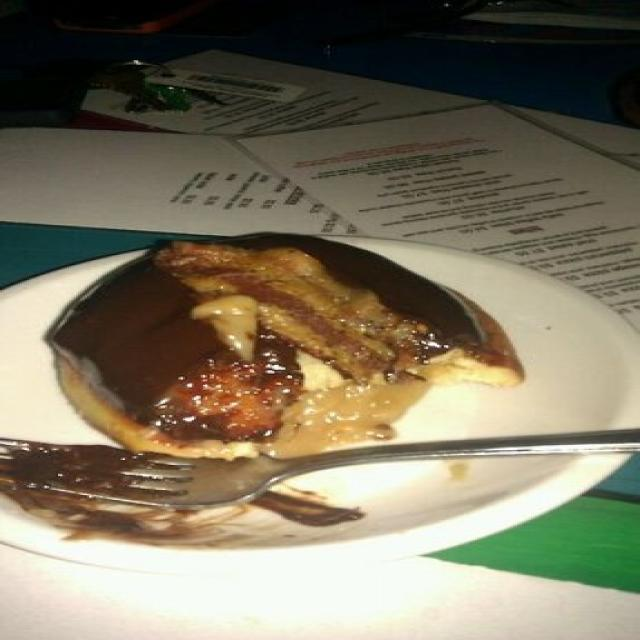Donuts: (22, 211, 562, 519)
